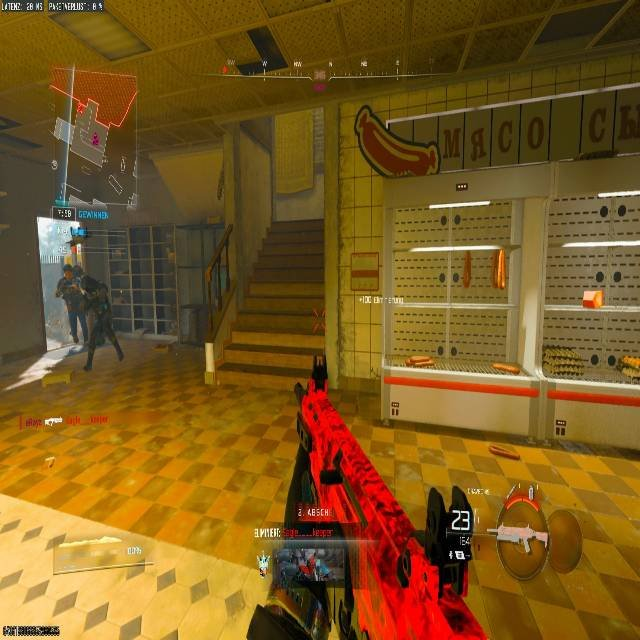head: (62, 263, 75, 278)
player: (262, 546, 338, 630), (73, 263, 124, 371), (54, 263, 99, 345)
